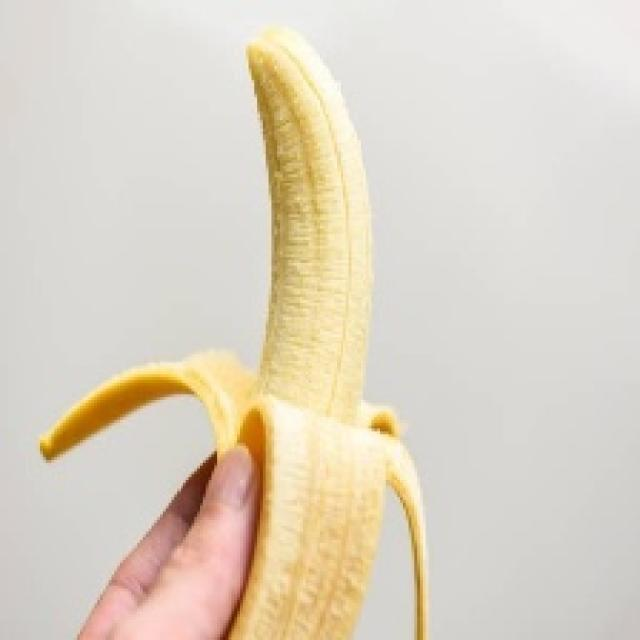Banana: (37, 23, 429, 637)
